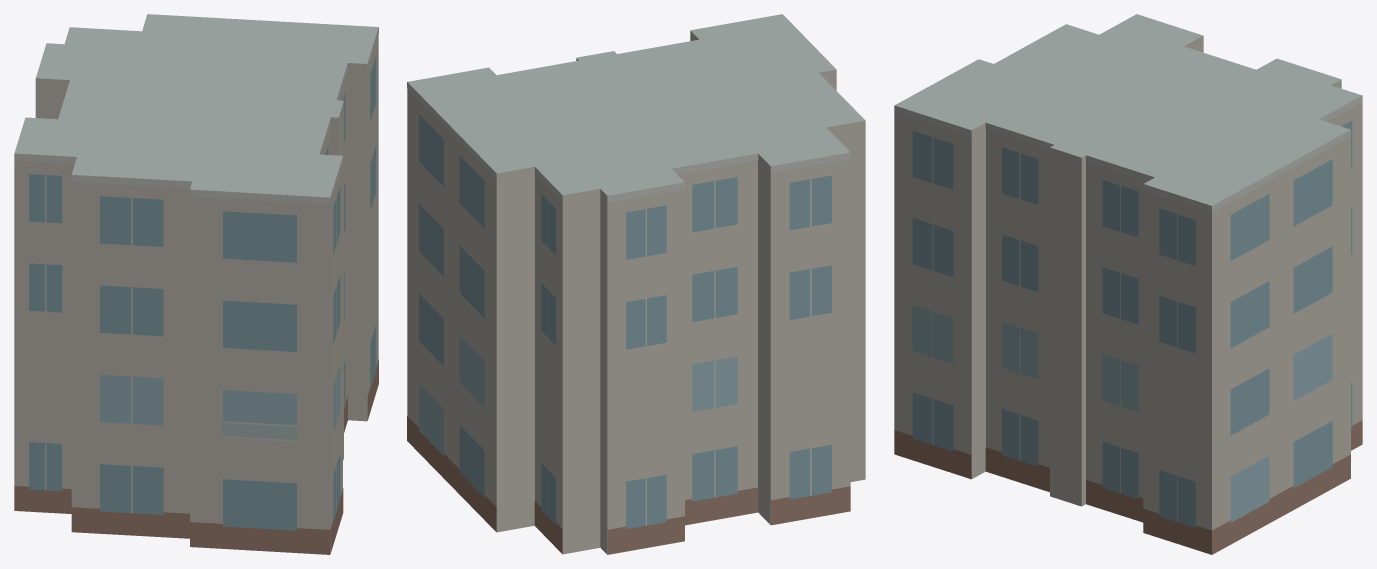
The model's file is survey-upis-33019647.glb.
3 views of the same model, side by side, from view 1: azimuth 30°, elevation 25°; view 2: azimuth 150°, elevation 25°; view 3: azimuth 270°, elevation 25° (orthographic). The views are drawn at different scales.
Visible parts, largest first — view 1: survey-upis-33019647.tmp; view 2: survey-upis-33019647.tmp; view 3: survey-upis-33019647.tmp.
Boxes of the visible parts, x1,y1,x2,y2 form: survey-upis-33019647.tmp: (14,14,378,554); survey-upis-33019647.tmp: (407,14,865,554); survey-upis-33019647.tmp: (894,14,1362,554).
Bounding box in the file's own units: 15.11 × 12.8 × 15.58.
